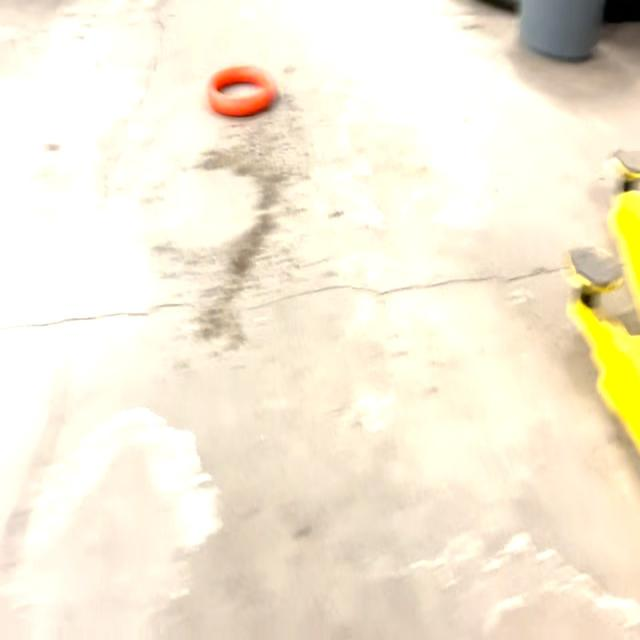note: (207, 59, 280, 122)
